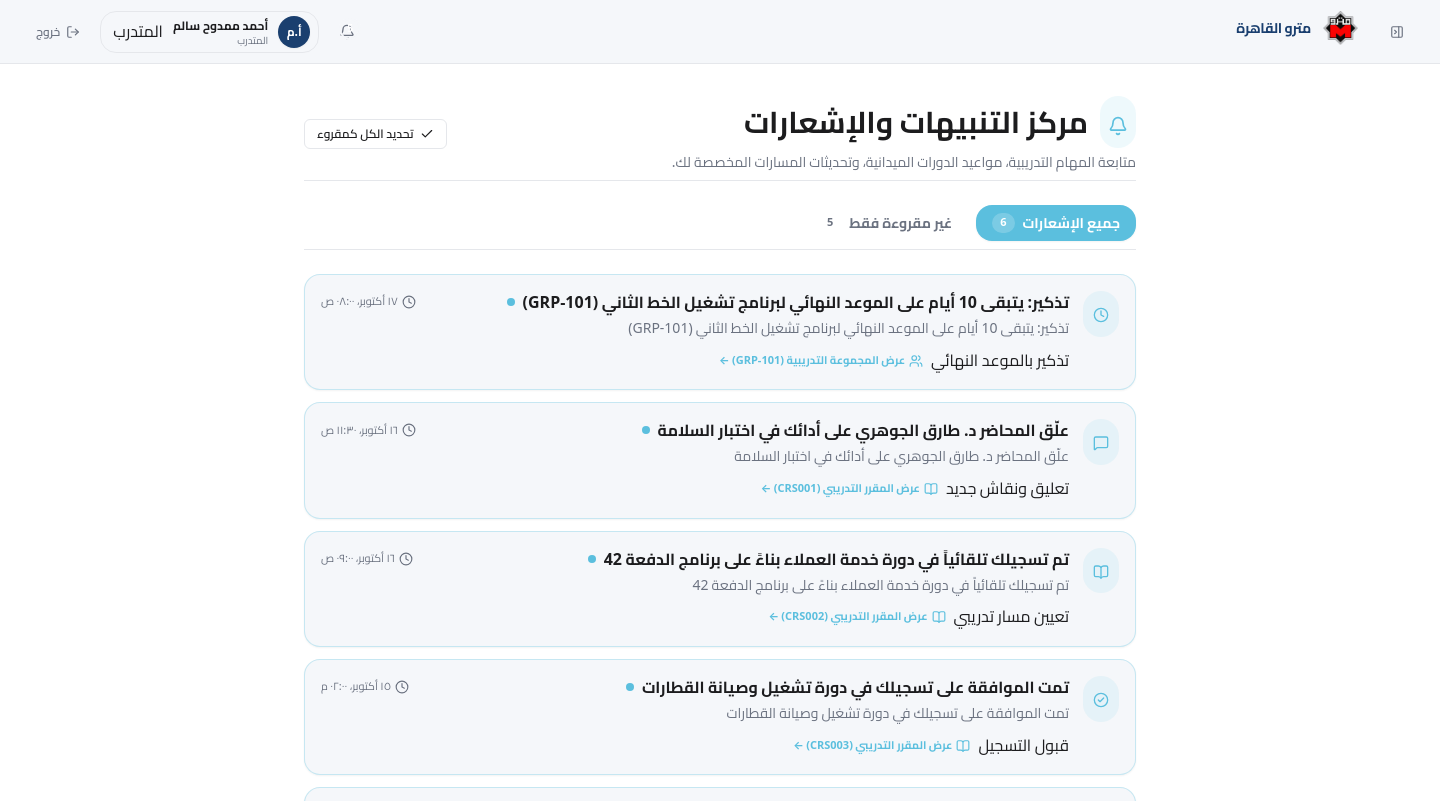
Test: Increment 7: Profile & Notification Center Verification › displays localized Arabic notification type badges instead of raw English enum keys and decrements unread badge when marking one item as read
# Click unread notification NOT006 (trainee group notification for GRP-101)
Click the list item with test id "notification-item-NOT006" at (720, 332), box [304,274,1136,390]
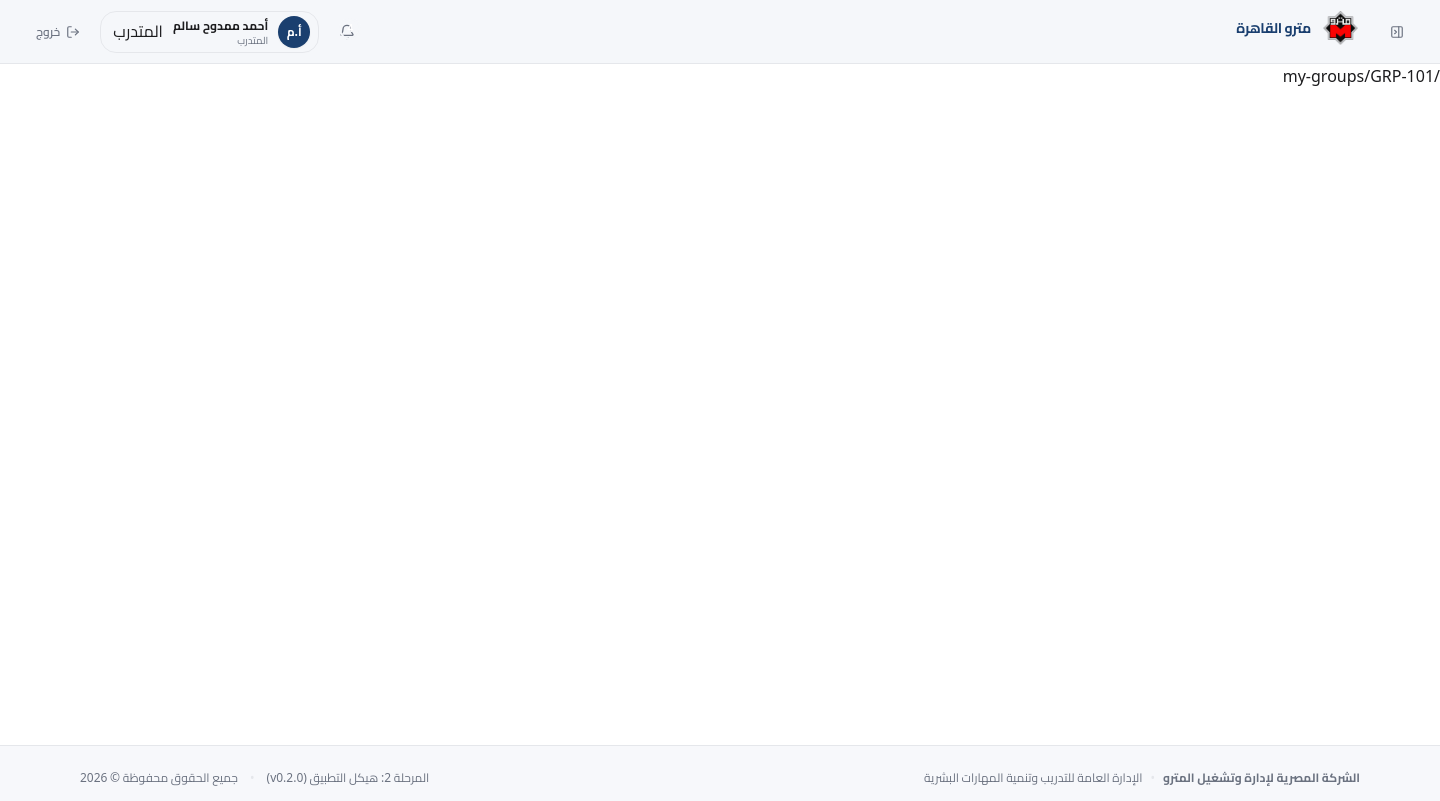
Expected: the text with test id "trainee-group-detail-page" reads "/my-groups/GRP-101", [1283,64,1439,91]
